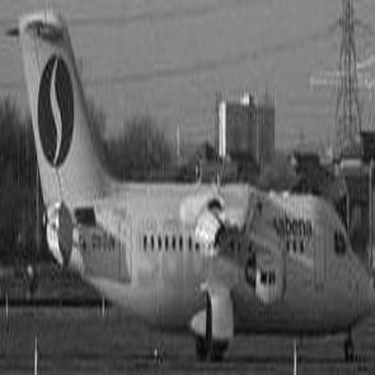airplane: (9, 9, 366, 368)
